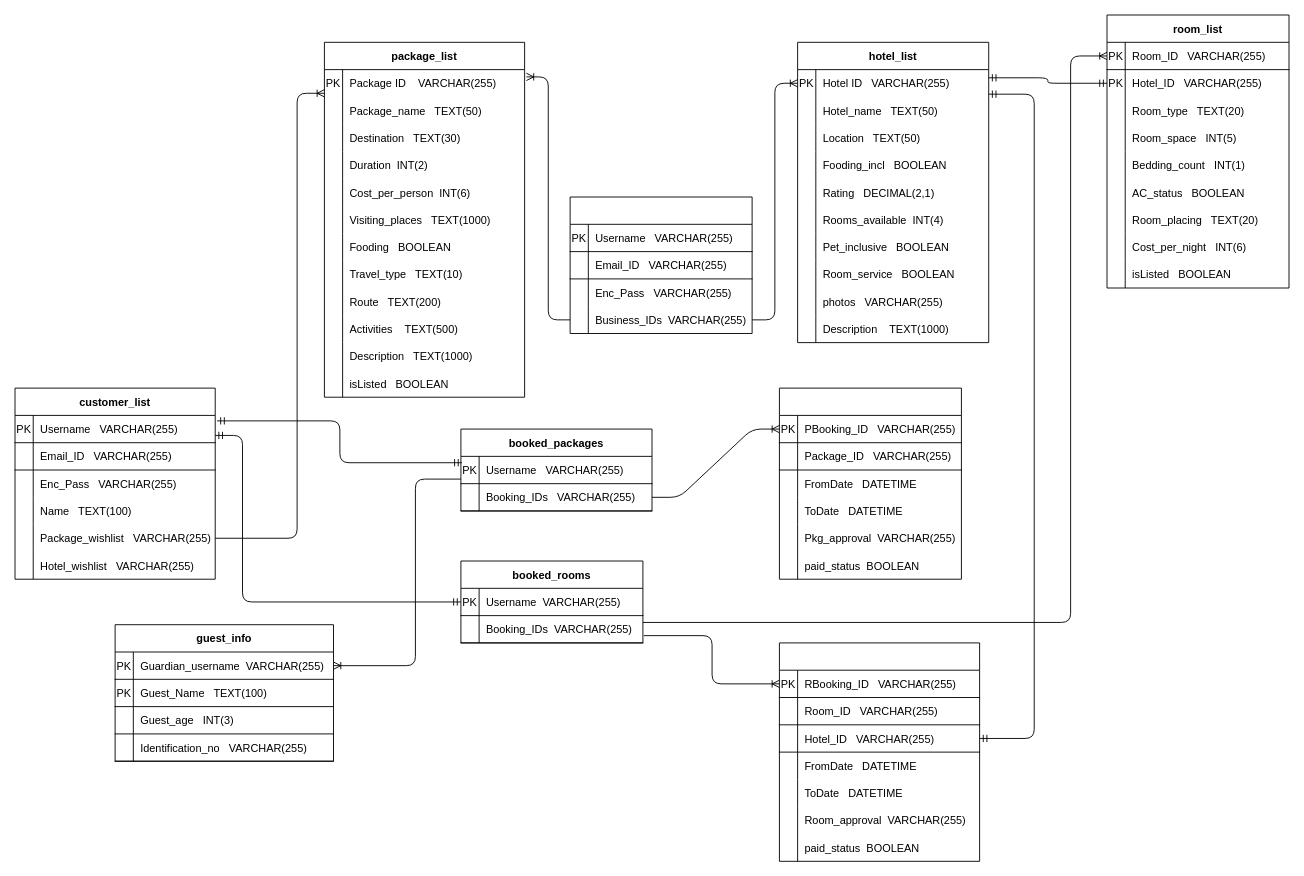
The diagram is 1304 pixels wide and 876 high, and some of its shapes have lost their labels. Each missing label, with the box of its shape:
business_list: (569, 196, 752, 334)
Package_info: (779, 387, 961, 579)
Room_info: (779, 642, 980, 861)
